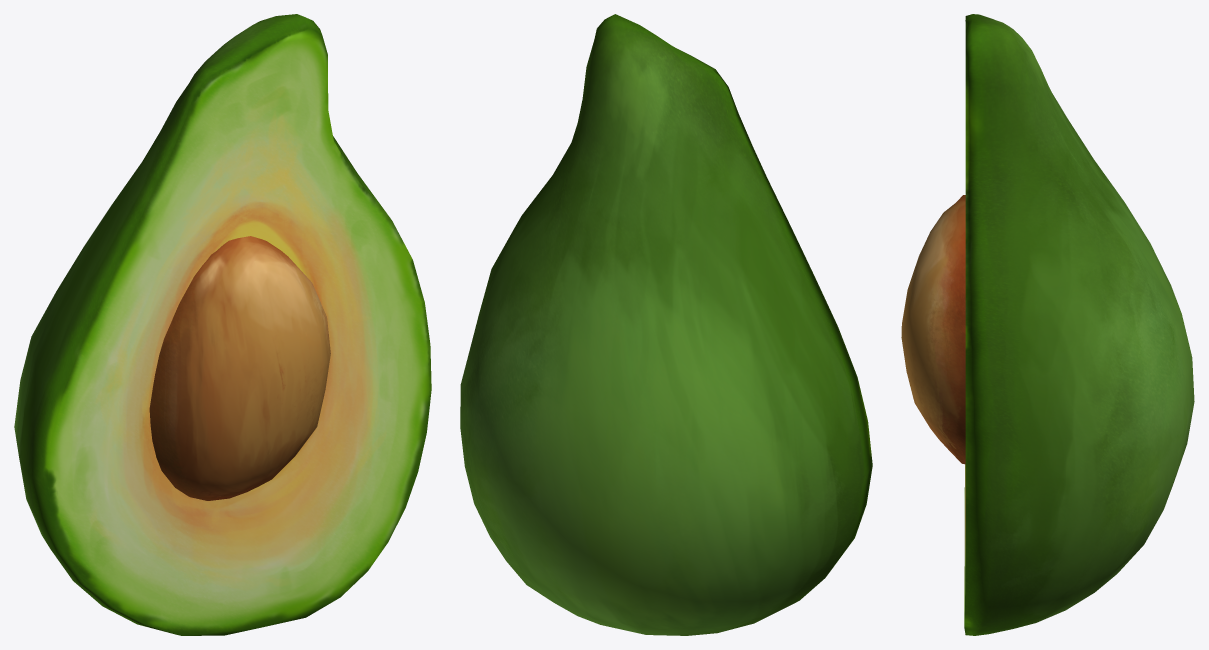
The model's file is abacate.glb.
3 views of the same model, side by side, from view 1: azimuth 30°, elevation 25°; view 2: azimuth 150°, elevation 25°; view 3: azimuth 270°, elevation 25° (orthographic). The views are drawn at different scales.
Visible parts, largest first — view 1: Avocado; view 2: Avocado; view 3: Avocado.
Boxes of the visible parts, left/top/right/bottom form: Avocado: left=14, top=14, right=431, bottom=635; Avocado: left=460, top=14, right=872, bottom=635; Avocado: left=901, top=14, right=1194, bottom=635.
Bounding box in the file's own units: 0.0898 × 0.1327 × 0.0583.
Materials: 1 (1 with a texture image).
